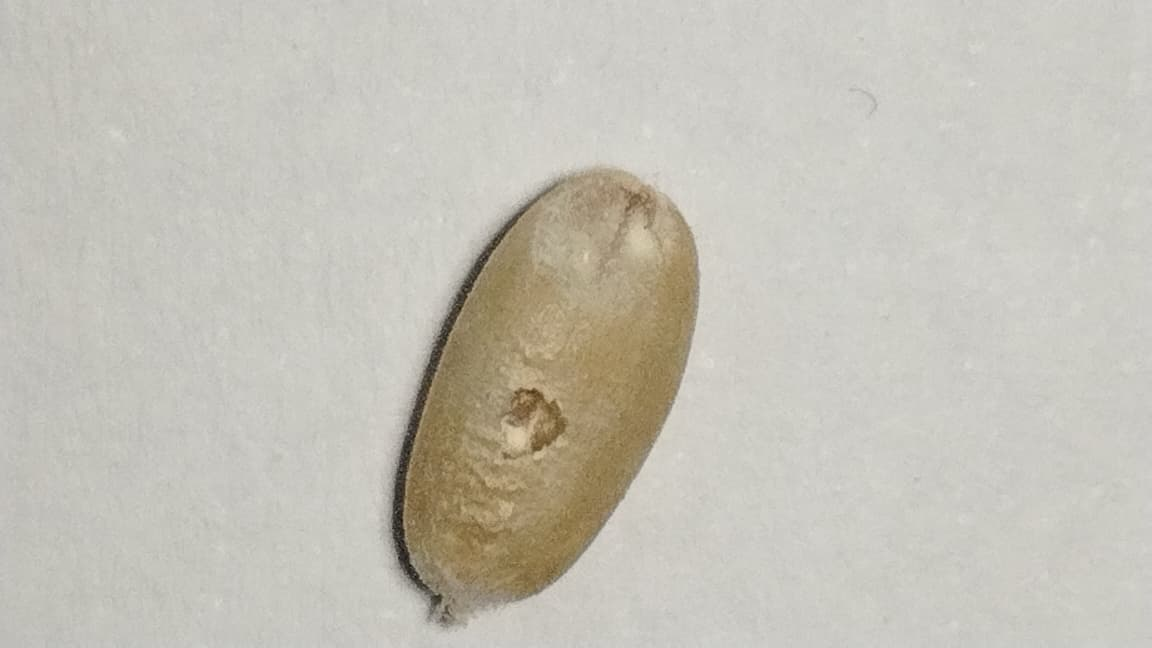damage: (403, 166, 697, 610)
insectdamage: (481, 354, 592, 492)
